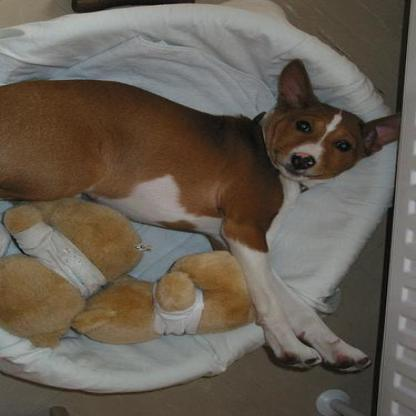basenji: (0, 54, 399, 369)
